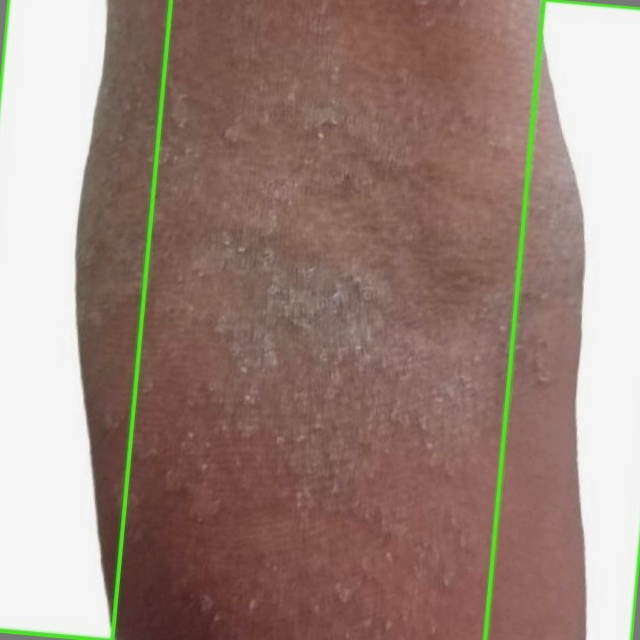Eczema: (0, 0, 171, 639), (485, 0, 639, 639)
